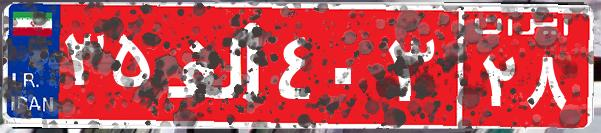0: (330, 28, 385, 110)
2: (475, 38, 525, 113)
3: (385, 28, 445, 110), (57, 26, 110, 107)
4: (273, 28, 330, 110)
5: (110, 28, 158, 105)
8: (525, 38, 570, 115)
الف: (158, 15, 273, 115)
